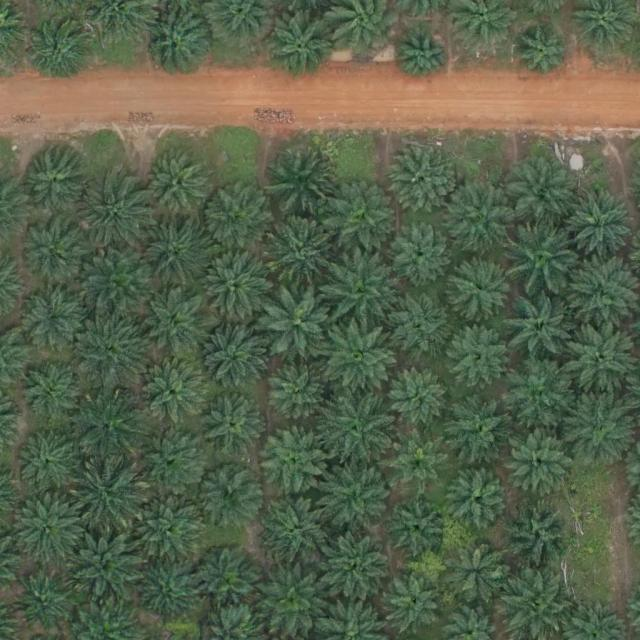Healthy: (567, 190, 638, 261), (567, 321, 638, 392), (504, 358, 575, 429), (324, 185, 395, 256), (327, 321, 398, 392), (194, 460, 265, 531), (192, 544, 263, 615), (72, 535, 143, 606), (565, 261, 635, 332), (505, 292, 575, 363), (449, 183, 519, 254), (501, 497, 571, 568), (388, 147, 458, 218), (326, 257, 396, 328), (324, 465, 394, 536), (322, 530, 392, 601), (257, 565, 327, 636), (261, 493, 332, 563), (256, 424, 327, 494), (263, 286, 333, 357), (269, 145, 339, 216), (201, 183, 272, 253), (198, 326, 268, 397), (197, 393, 268, 463), (130, 497, 201, 567), (142, 357, 212, 428), (143, 290, 213, 361), (137, 220, 208, 290), (71, 314, 142, 384), (76, 391, 146, 462), (19, 147, 89, 218), (20, 215, 90, 286), (265, 12, 335, 83), (563, 395, 633, 465), (509, 433, 579, 503), (509, 222, 579, 292), (507, 160, 577, 230), (445, 393, 515, 463), (382, 290, 452, 360), (324, 395, 394, 465), (265, 215, 335, 285), (202, 248, 272, 318), (137, 427, 207, 497), (80, 179, 150, 249), (84, 249, 154, 319), (14, 495, 84, 565), (142, 9, 212, 79), (447, 541, 510, 604), (389, 494, 452, 557), (385, 364, 448, 427), (139, 565, 202, 628), (15, 573, 78, 636), (15, 428, 78, 491), (27, 23, 90, 86), (450, 256, 512, 319), (449, 325, 512, 387), (450, 472, 512, 535), (389, 430, 451, 493), (389, 219, 451, 282), (144, 154, 206, 217), (20, 364, 82, 427), (24, 293, 86, 356), (385, 571, 447, 633), (266, 361, 328, 423), (517, 29, 572, 84), (396, 29, 450, 84)
Yellow: (76, 462, 146, 532)
